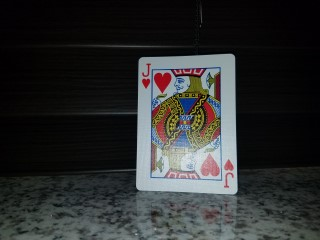JackOfHearts: (136, 53, 239, 195)
